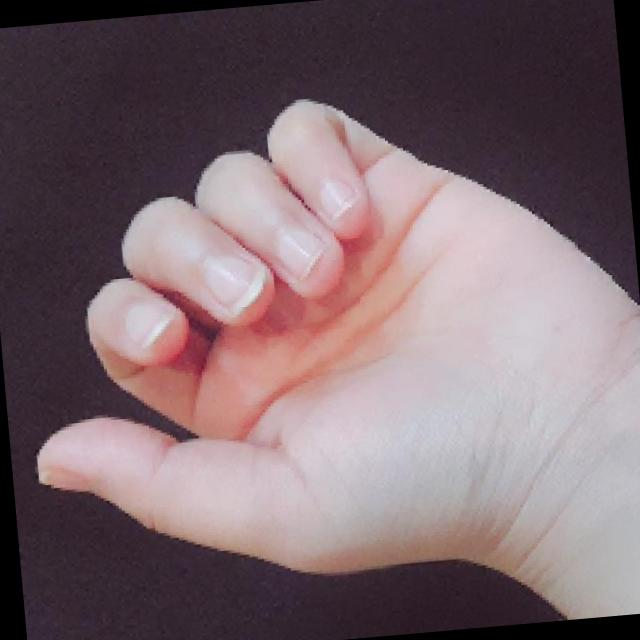Nail: (203, 253, 266, 315), (124, 301, 173, 348), (277, 228, 322, 279), (320, 176, 356, 220), (42, 466, 94, 490)
